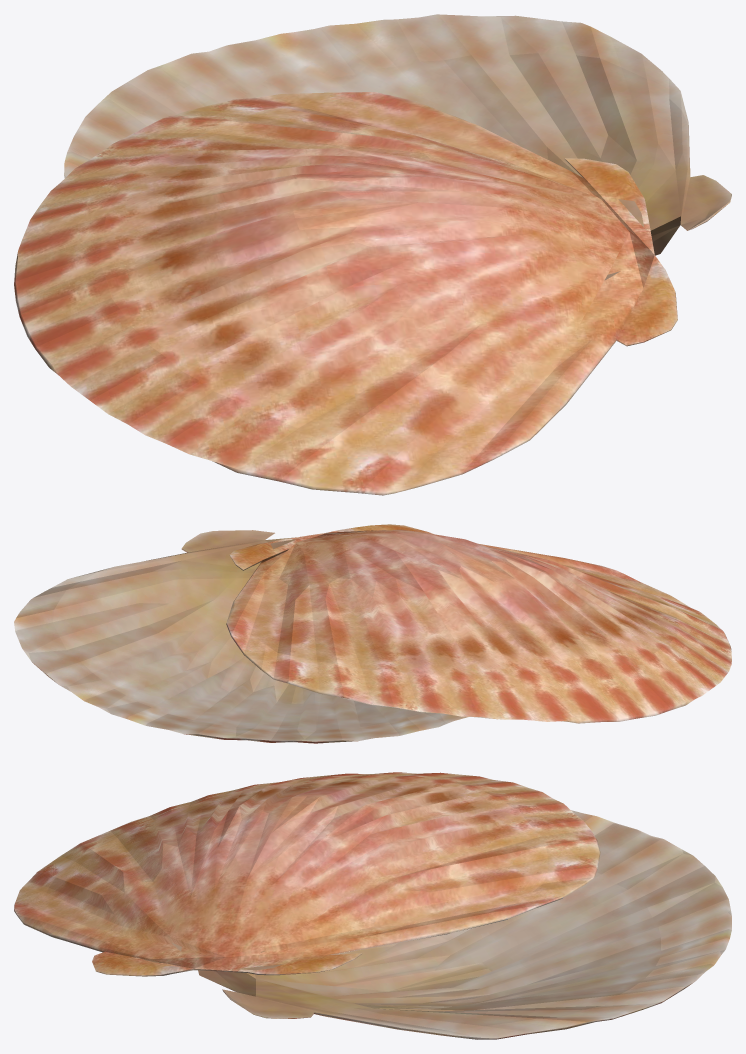
File: seashell_low.obj
3 views of the same model, one above another, from view 1: azimuth 30°, elevation 25°; view 2: azimuth 150°, elevation 25°; view 3: azimuth 270°, elevation 25° (orthographic). The views are drawn at different scales.
Parts seen in each view (by area): view 1: Mesh; view 2: Mesh; view 3: Mesh.
Part boxes in pixels (x1,y1,x2,y2): Mesh: (14, 14, 731, 495); Mesh: (14, 524, 731, 743); Mesh: (14, 772, 731, 1039).
Size of the model in its own units: 103 by 20.04 by 104.
1 material, 1 textured.
